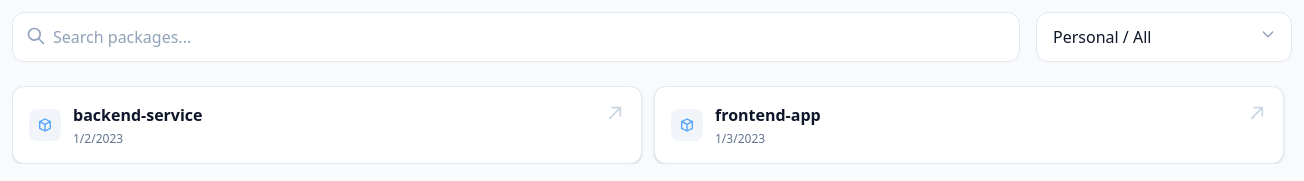
Scenario: GitHubImagePicker › handles package selection
Click the text "backend-service" at {"x": 138, "y": 115}, box 73,103 -> 202,127
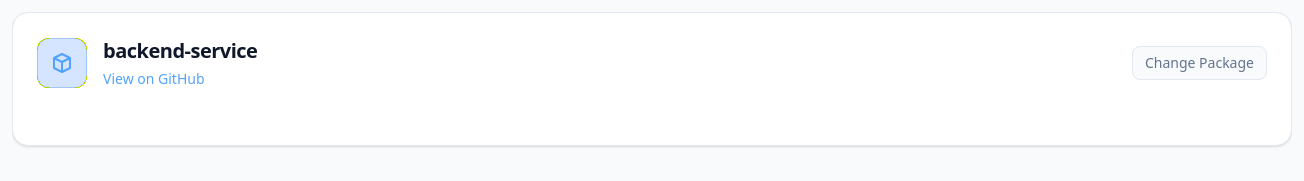
Expected: the link "View on GitHub" is shown, 103,69 -> 204,88
